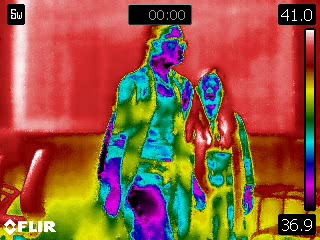human: (101, 23, 198, 240), (183, 66, 259, 240)
